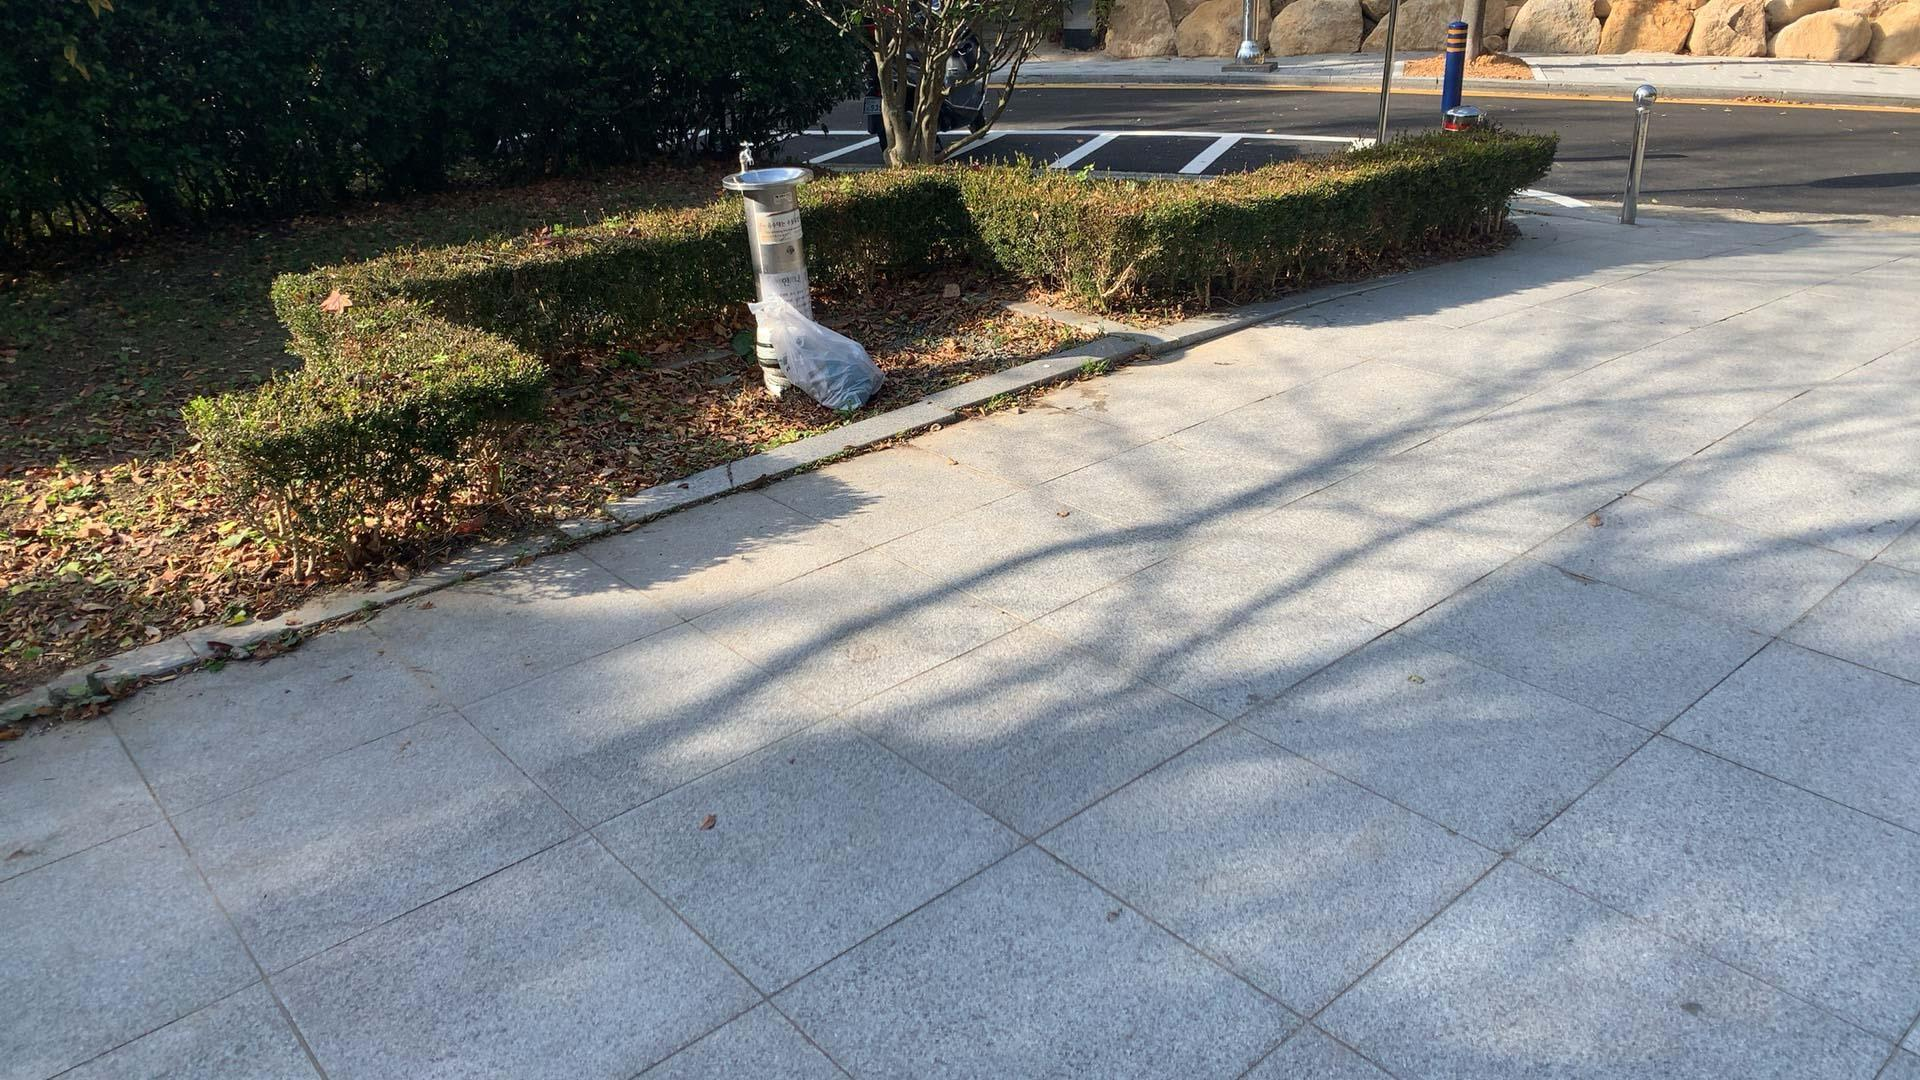white_bag: (738, 291, 887, 414)
